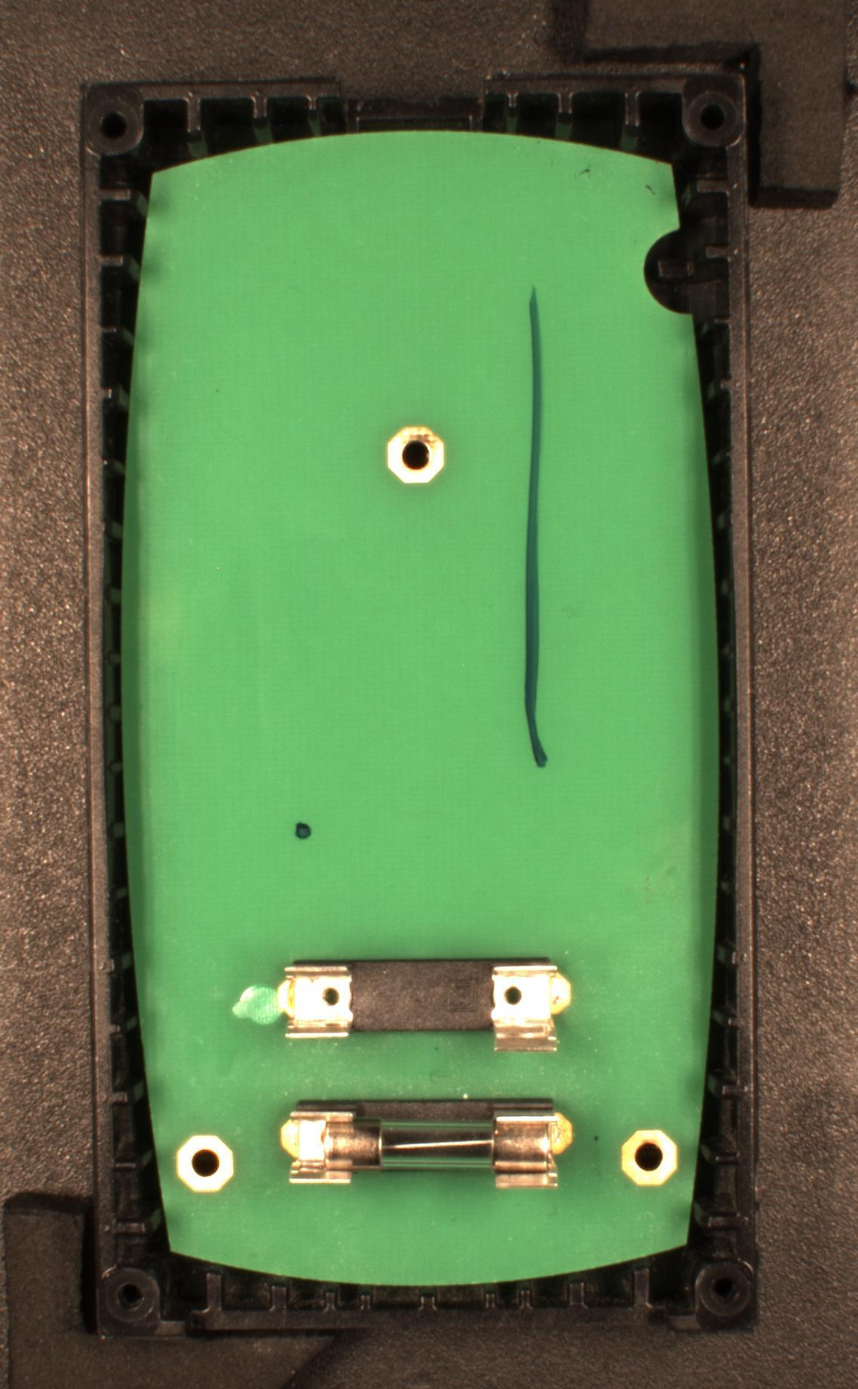Linijsko Ostecene: (519, 288, 552, 773)
Nepostojanje osiguraca: (276, 957, 576, 1054)
Tockasto Ostecenje: (294, 821, 313, 842)
